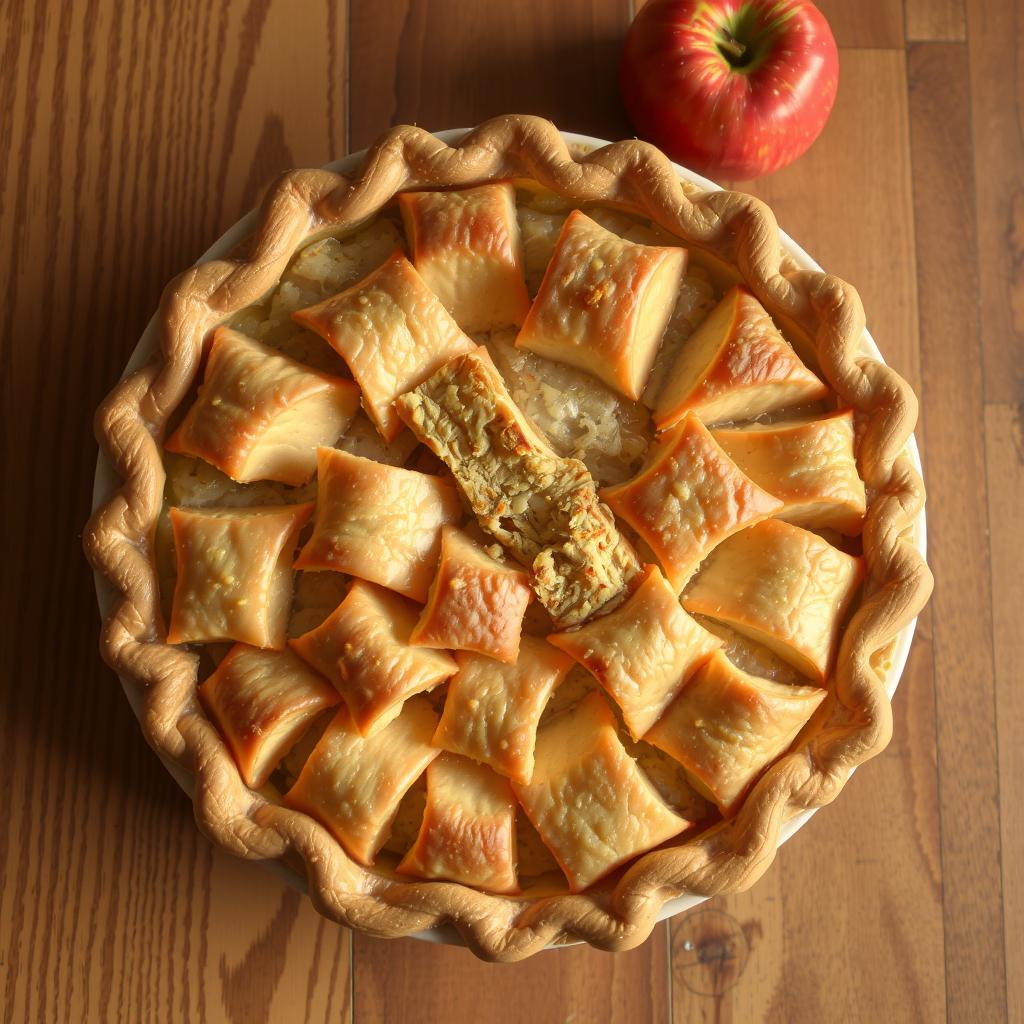cake: (76, 100, 939, 964)
